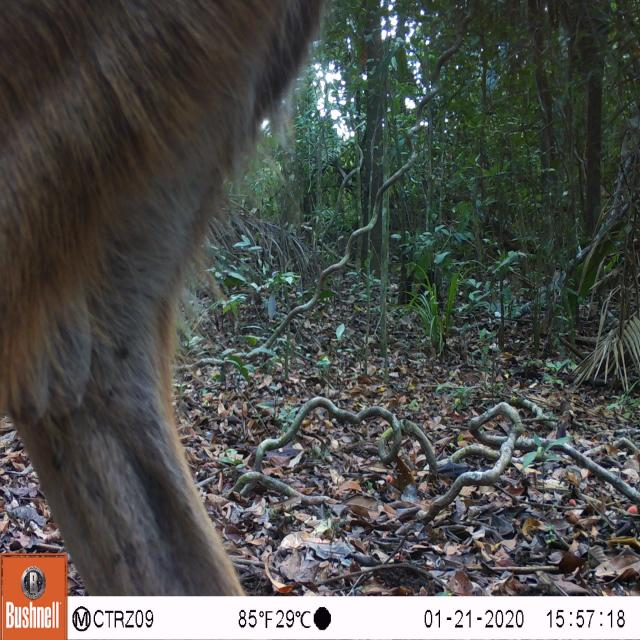White-tailed Deer: (1, 0, 328, 594)
